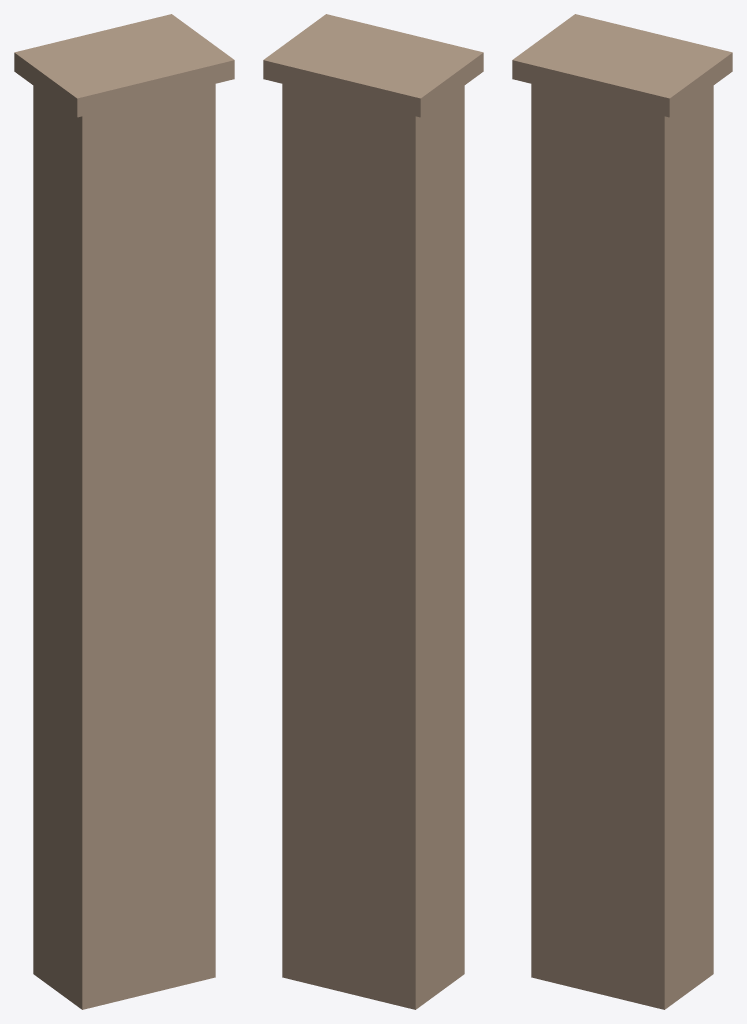
Rendered from chamine_1950.glb.
3 views of the same model, side by side, from view 1: azimuth 30°, elevation 25°; view 2: azimuth 150°, elevation 25°; view 3: azimuth 330°, elevation 25° (orthographic).
Visible parts, largest first — view 1: Malha_0; view 2: Malha_0; view 3: Malha_0.
Part boxes in pixels (bbox=[...]): Malha_0: bbox=[14, 14, 234, 1009]; Malha_0: bbox=[263, 14, 483, 1009]; Malha_0: bbox=[512, 14, 732, 1009].
Size of the model in its own units: 1.3 by 7.25 by 0.9.
